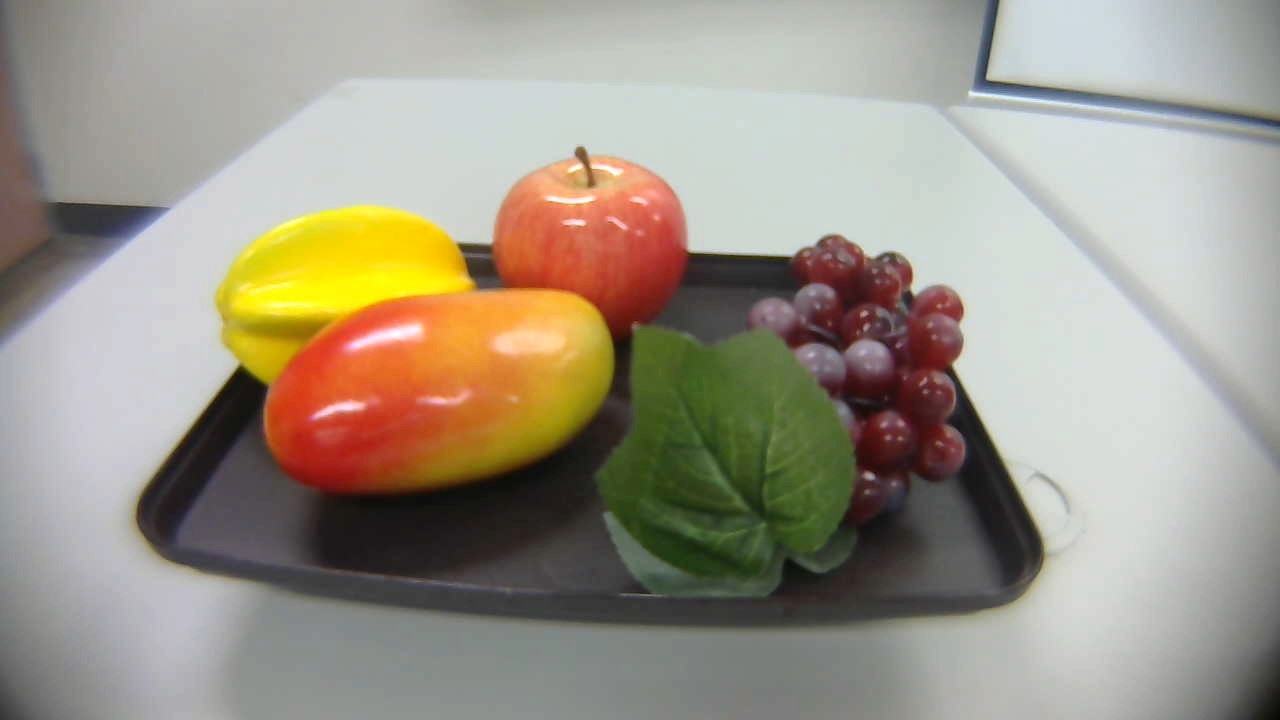grape: (595, 224, 978, 609)
red apple: (480, 146, 690, 354)
red mango: (257, 278, 623, 506)
star fruit: (210, 206, 483, 388)
